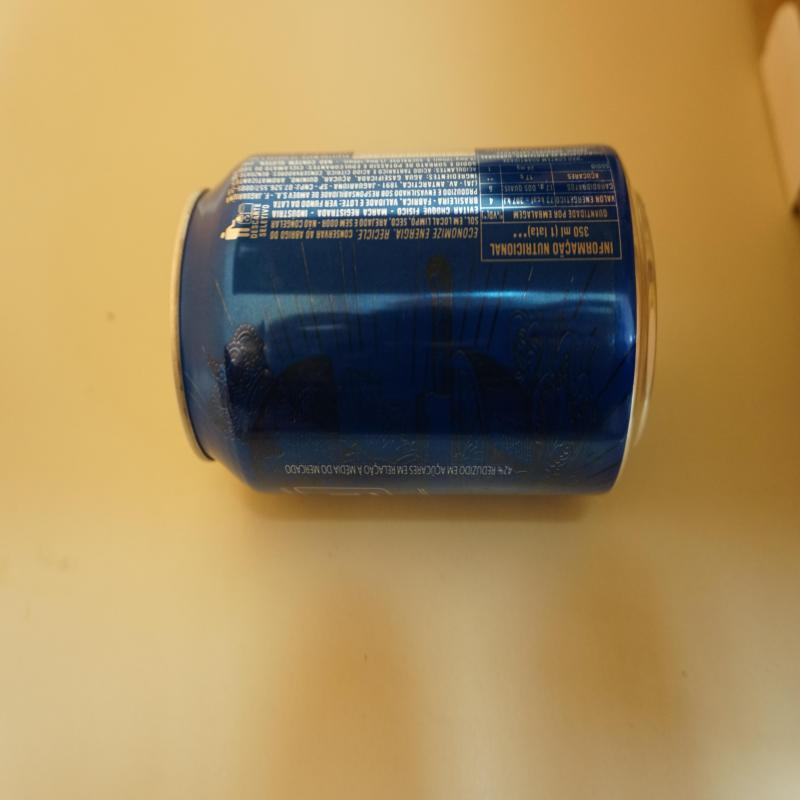Tonic: (173, 144, 654, 500)
